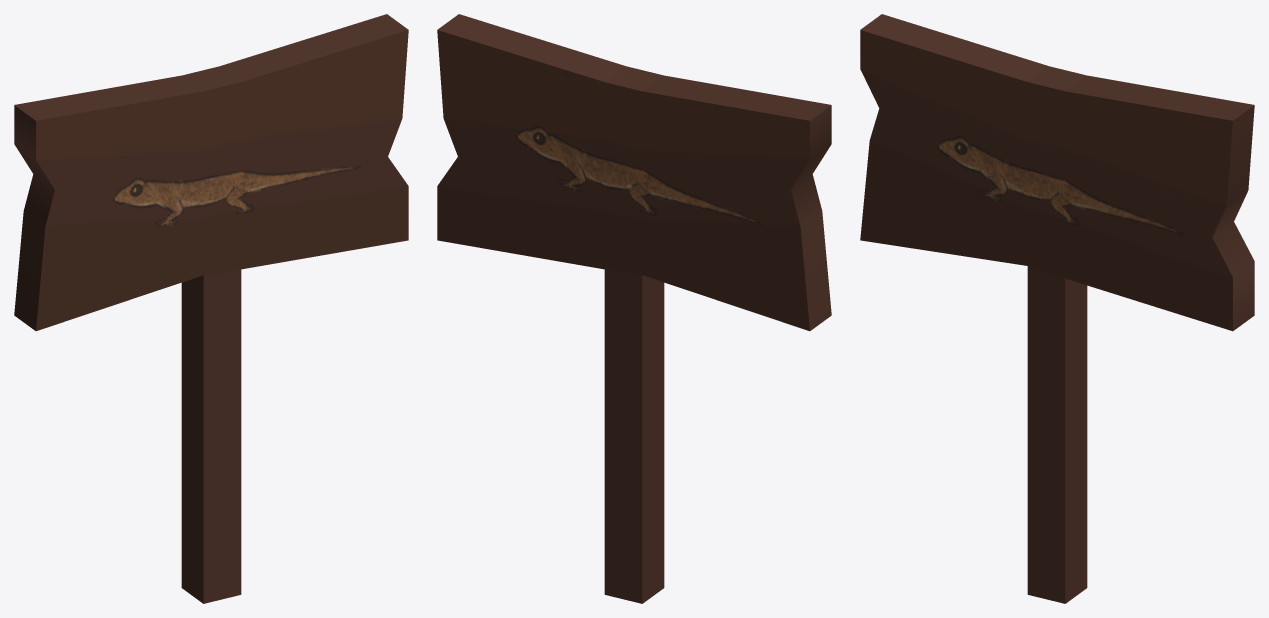
Rendered from conga_model_sign_v001.fbx.
3 renders of one model, left to right at view 1: azimuth 30°, elevation 25°; view 2: azimuth 150°, elevation 25°; view 3: azimuth 330°, elevation 25°, orthographic.
Parts seen in each view (by area): view 1: pCube1; view 2: pCube1; view 3: pCube1.
Part boxes in pixels (x1,y1,x2,y2): pCube1: [14, 14, 408, 603]; pCube1: [437, 14, 831, 603]; pCube1: [860, 14, 1254, 603].
Size of the model in its own units: 378 by 508 by 38.22.
Materials: 1 (1 with a texture image).
